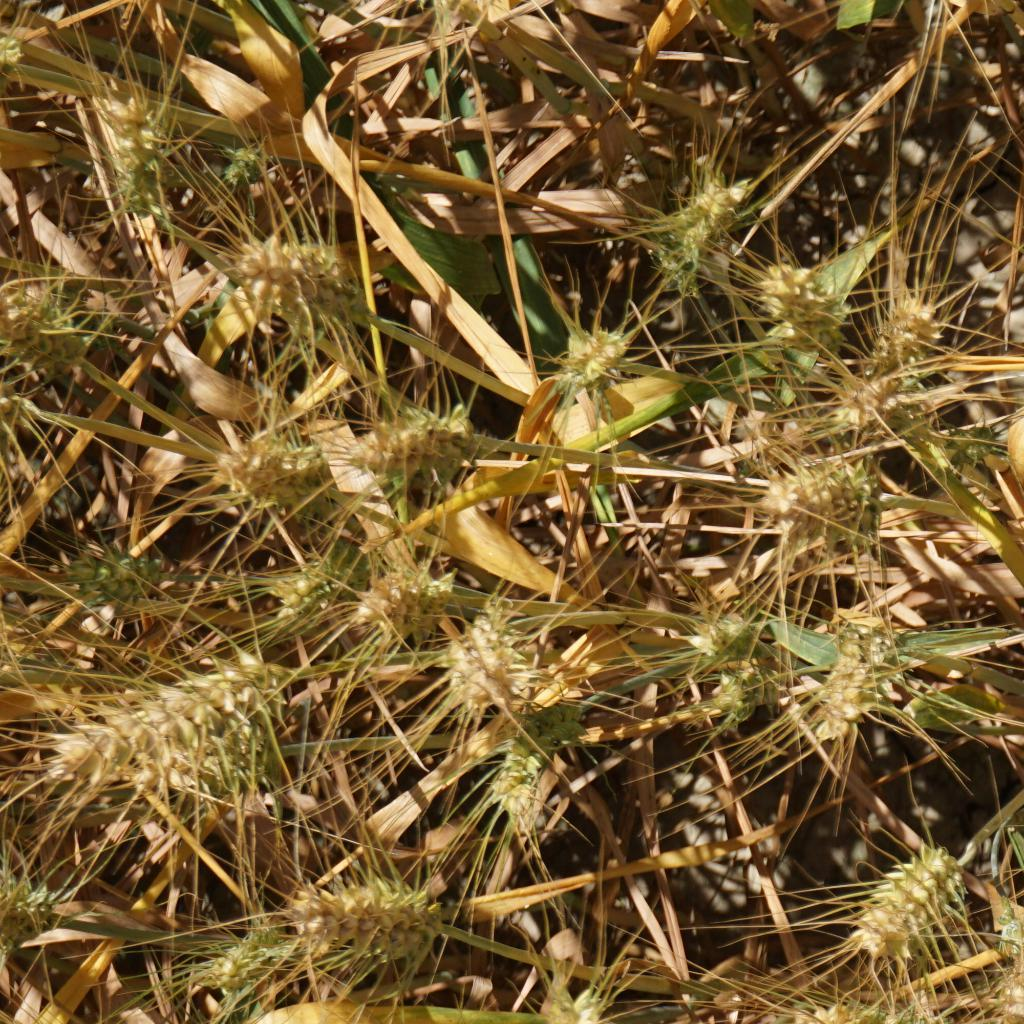0-0: (41, 664, 279, 799), (232, 218, 391, 335), (837, 826, 960, 960), (288, 860, 437, 965), (337, 393, 470, 482), (86, 96, 177, 226), (435, 593, 529, 713), (221, 423, 339, 512), (775, 465, 901, 545), (662, 175, 755, 282), (500, 702, 580, 821), (818, 610, 887, 717), (866, 288, 948, 373), (165, 734, 276, 796), (778, 984, 949, 1024), (762, 260, 843, 338), (197, 916, 272, 1000), (260, 559, 351, 627), (69, 551, 168, 604), (556, 325, 631, 391), (1, 273, 70, 339), (830, 375, 911, 429), (357, 565, 430, 624), (0, 870, 48, 942), (691, 611, 770, 652), (716, 665, 772, 720), (947, 421, 1005, 458), (223, 135, 264, 184)
